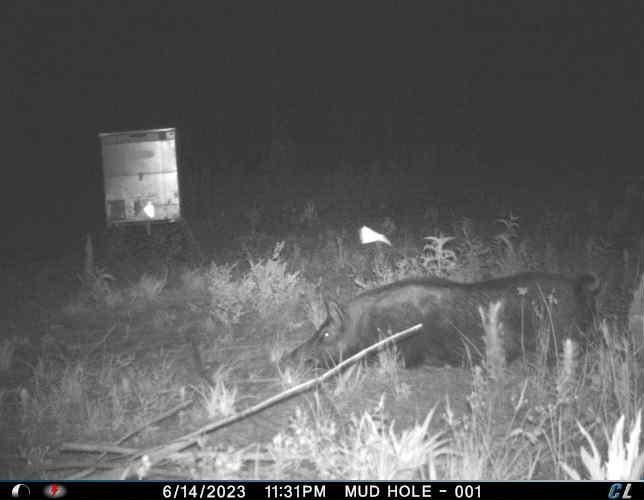Hog: (280, 274, 616, 372)
